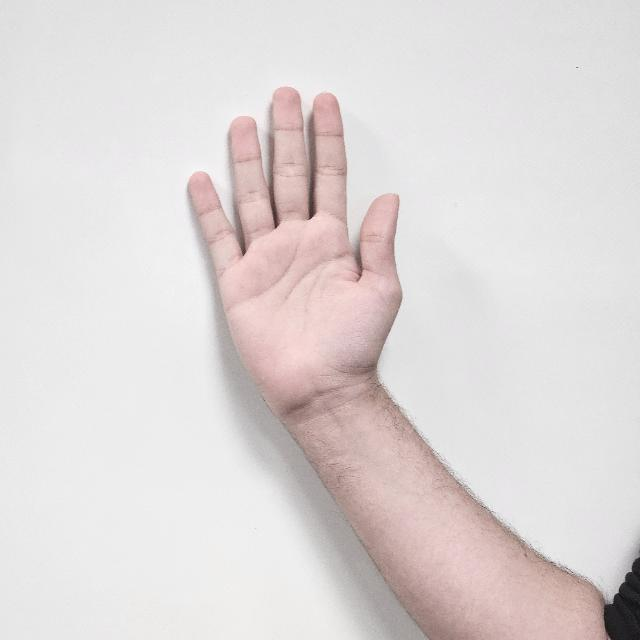X: (177, 90, 403, 442)
